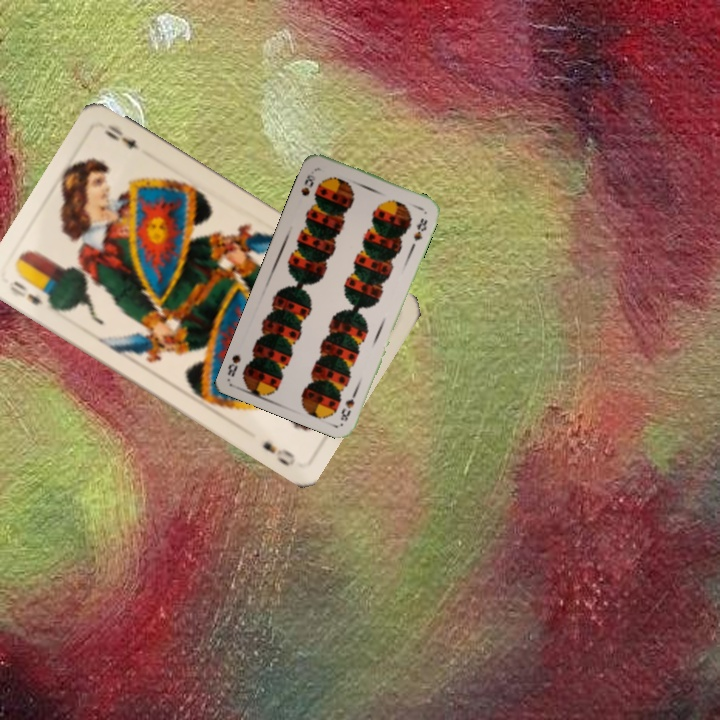EO: (4, 277, 46, 308)
S8: (336, 385, 360, 424), (297, 171, 316, 199)
